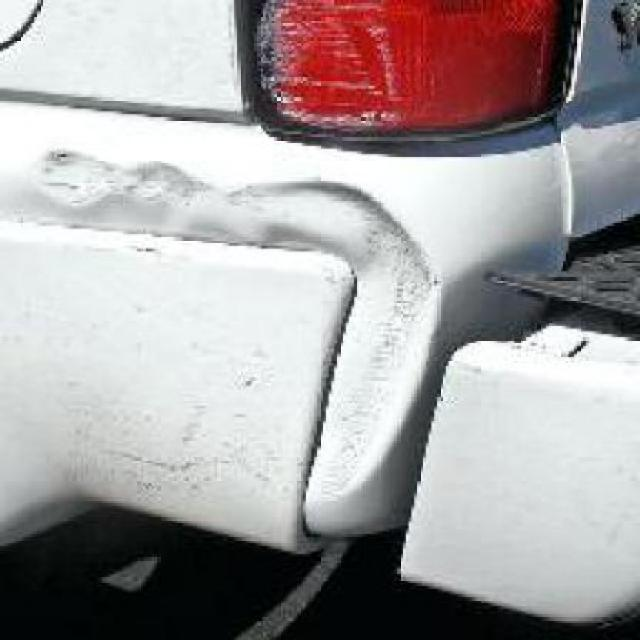dent-or-scratch: (41, 146, 434, 494)
